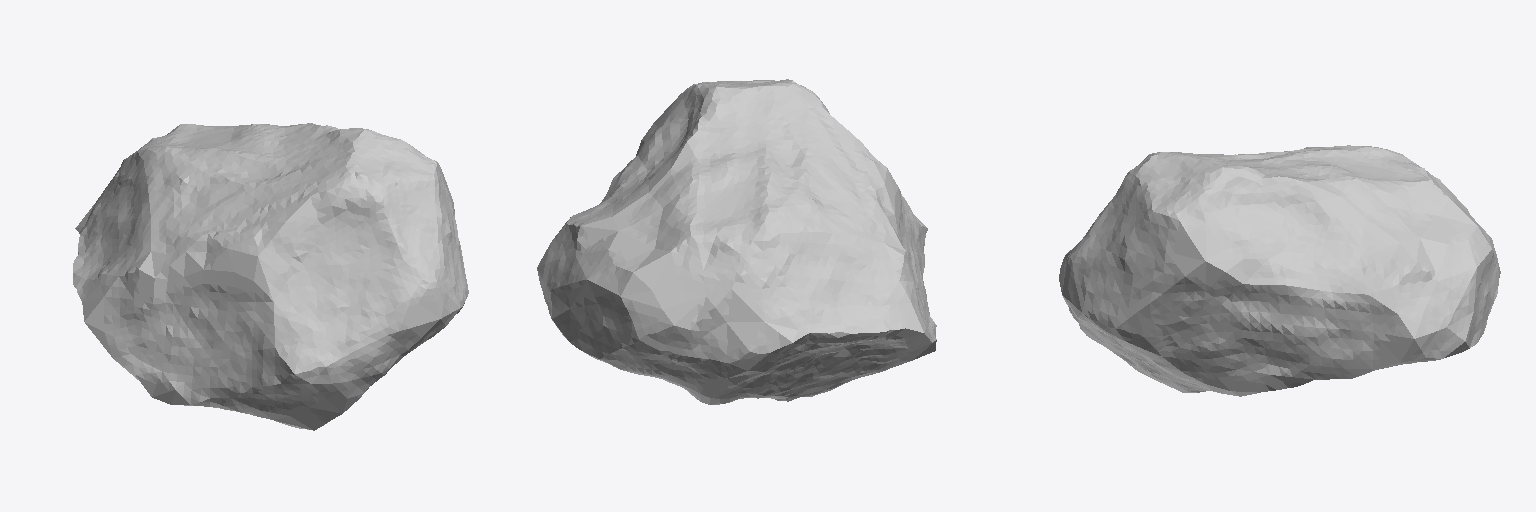
File: Rock2_High.obj
3 renders of one model, left to right at view 1: azimuth 30°, elevation 25°; view 2: azimuth 150°, elevation 25°; view 3: azimuth 270°, elevation 25°, orthographic.
Visible parts, largest first — view 1: Sphere; view 2: Sphere; view 3: Sphere.
Part boxes in pixels (bbox=[...]): Sphere: bbox=[73, 123, 468, 430]; Sphere: bbox=[537, 79, 936, 404]; Sphere: bbox=[1059, 145, 1500, 396].
Bounding box in the file's own units: 1.48 × 1.1 × 1.73.